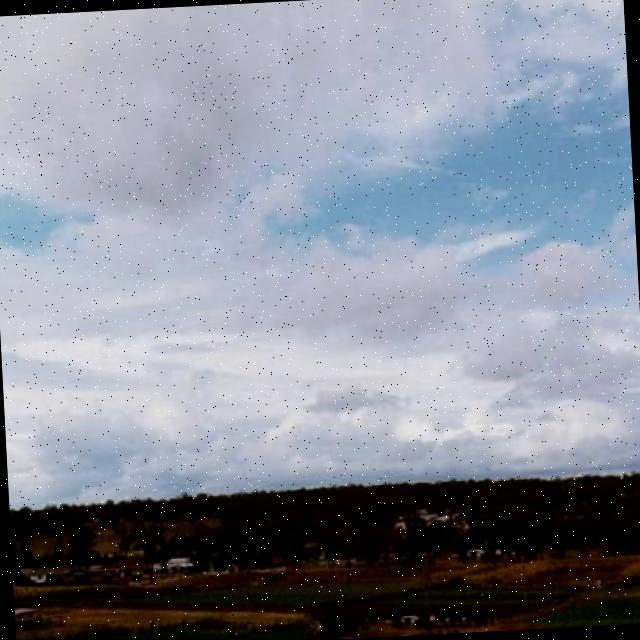Sc: (1, 8, 640, 458)
